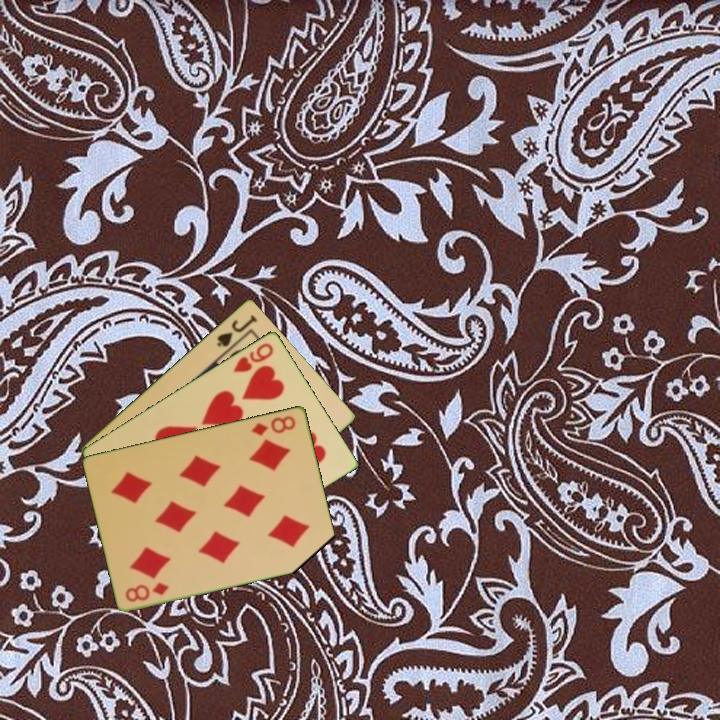8d: (122, 578, 172, 605), (248, 412, 299, 438)
9h: (230, 339, 276, 375)
Js: (213, 311, 260, 350)
